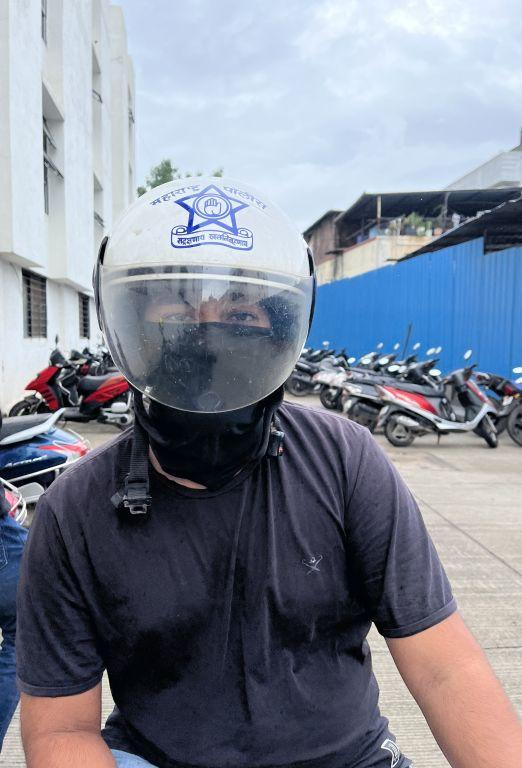helmet: (87, 167, 328, 467)
